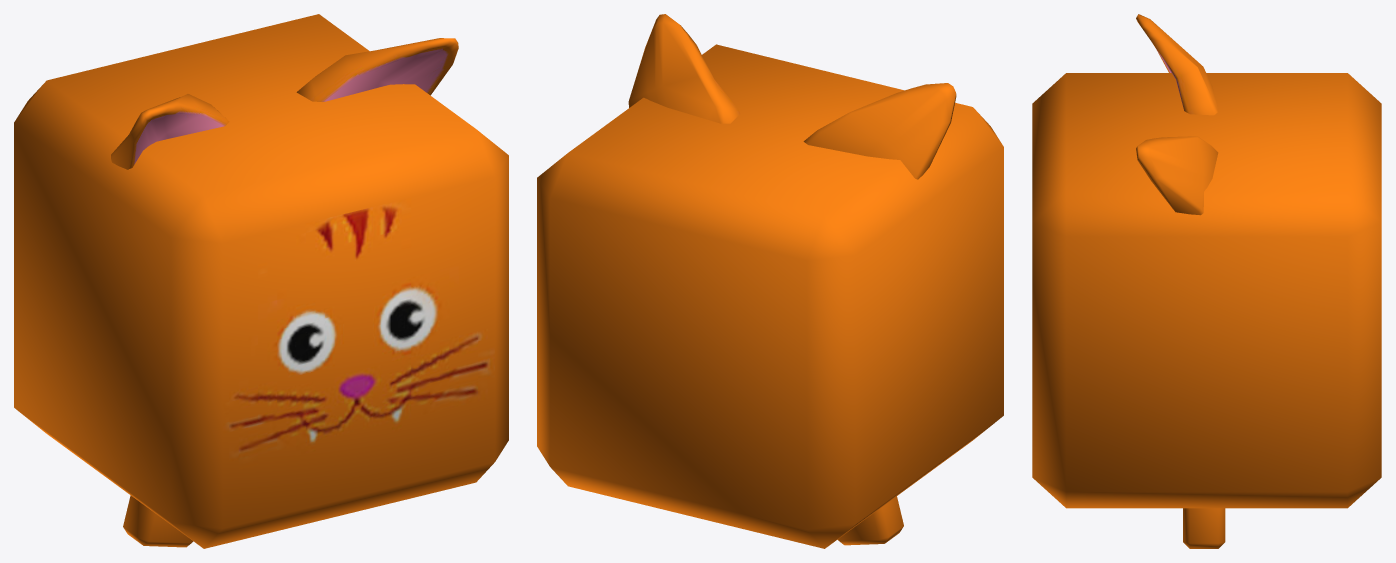
File: chongwu2.FBX
The picture shows the model from 3 angles, left to right: view 1: azimuth 30°, elevation 25°; view 2: azimuth 150°, elevation 25°; view 3: azimuth 270°, elevation 25°; orthographic projection. The views are drawn at different scales.
Visible parts, largest first — view 1: chongwu002; view 2: chongwu002; view 3: chongwu002.
Part boxes in pixels (box(x1,y1,x2,y2)): chongwu002: box(14, 14, 508, 548); chongwu002: box(537, 14, 1003, 548); chongwu002: box(1032, 14, 1381, 548).
Bounding box in the file's own units: 44.91 × 60.13 × 44.91.
1 material, 1 textured.
